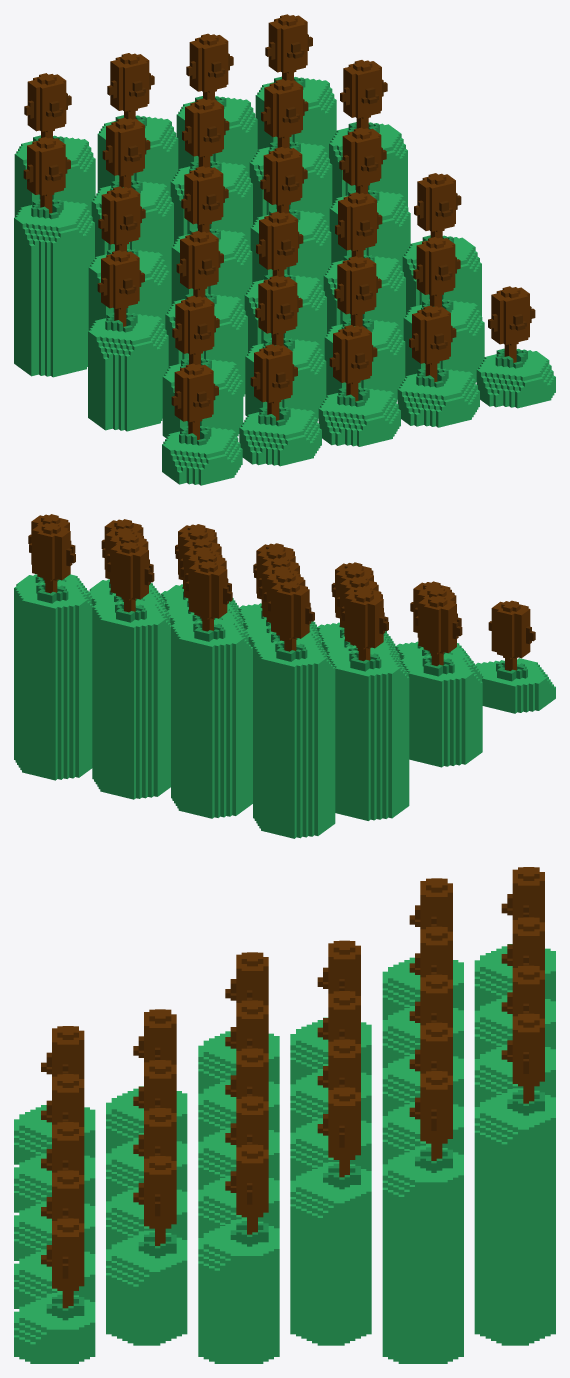
File: team.vox.gltf
3 views of the same model, one above another, from view 1: azimuth 30°, elevation 25°; view 2: azimuth 150°, elevation 25°; view 3: azimuth 270°, elevation 25° (orthographic). The views are drawn at different scales.
Bounding box in the file's own units: 10 × 6.2 × 10.
1 material, 1 textured.
